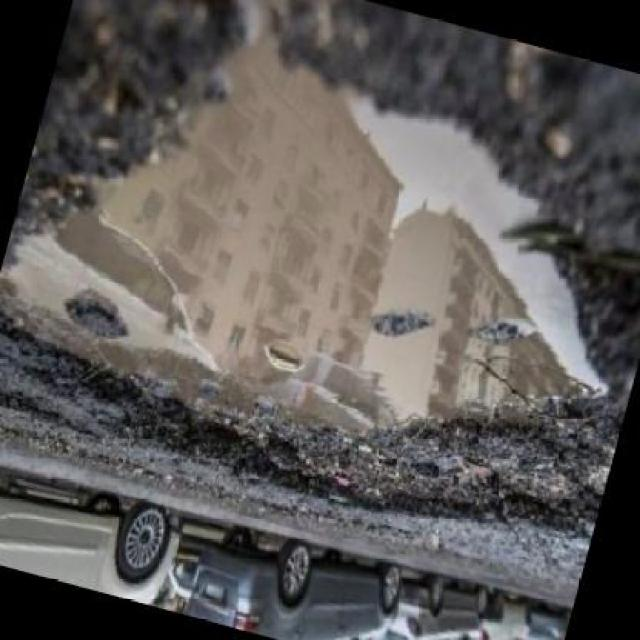pothole: (2, 2, 640, 588)
